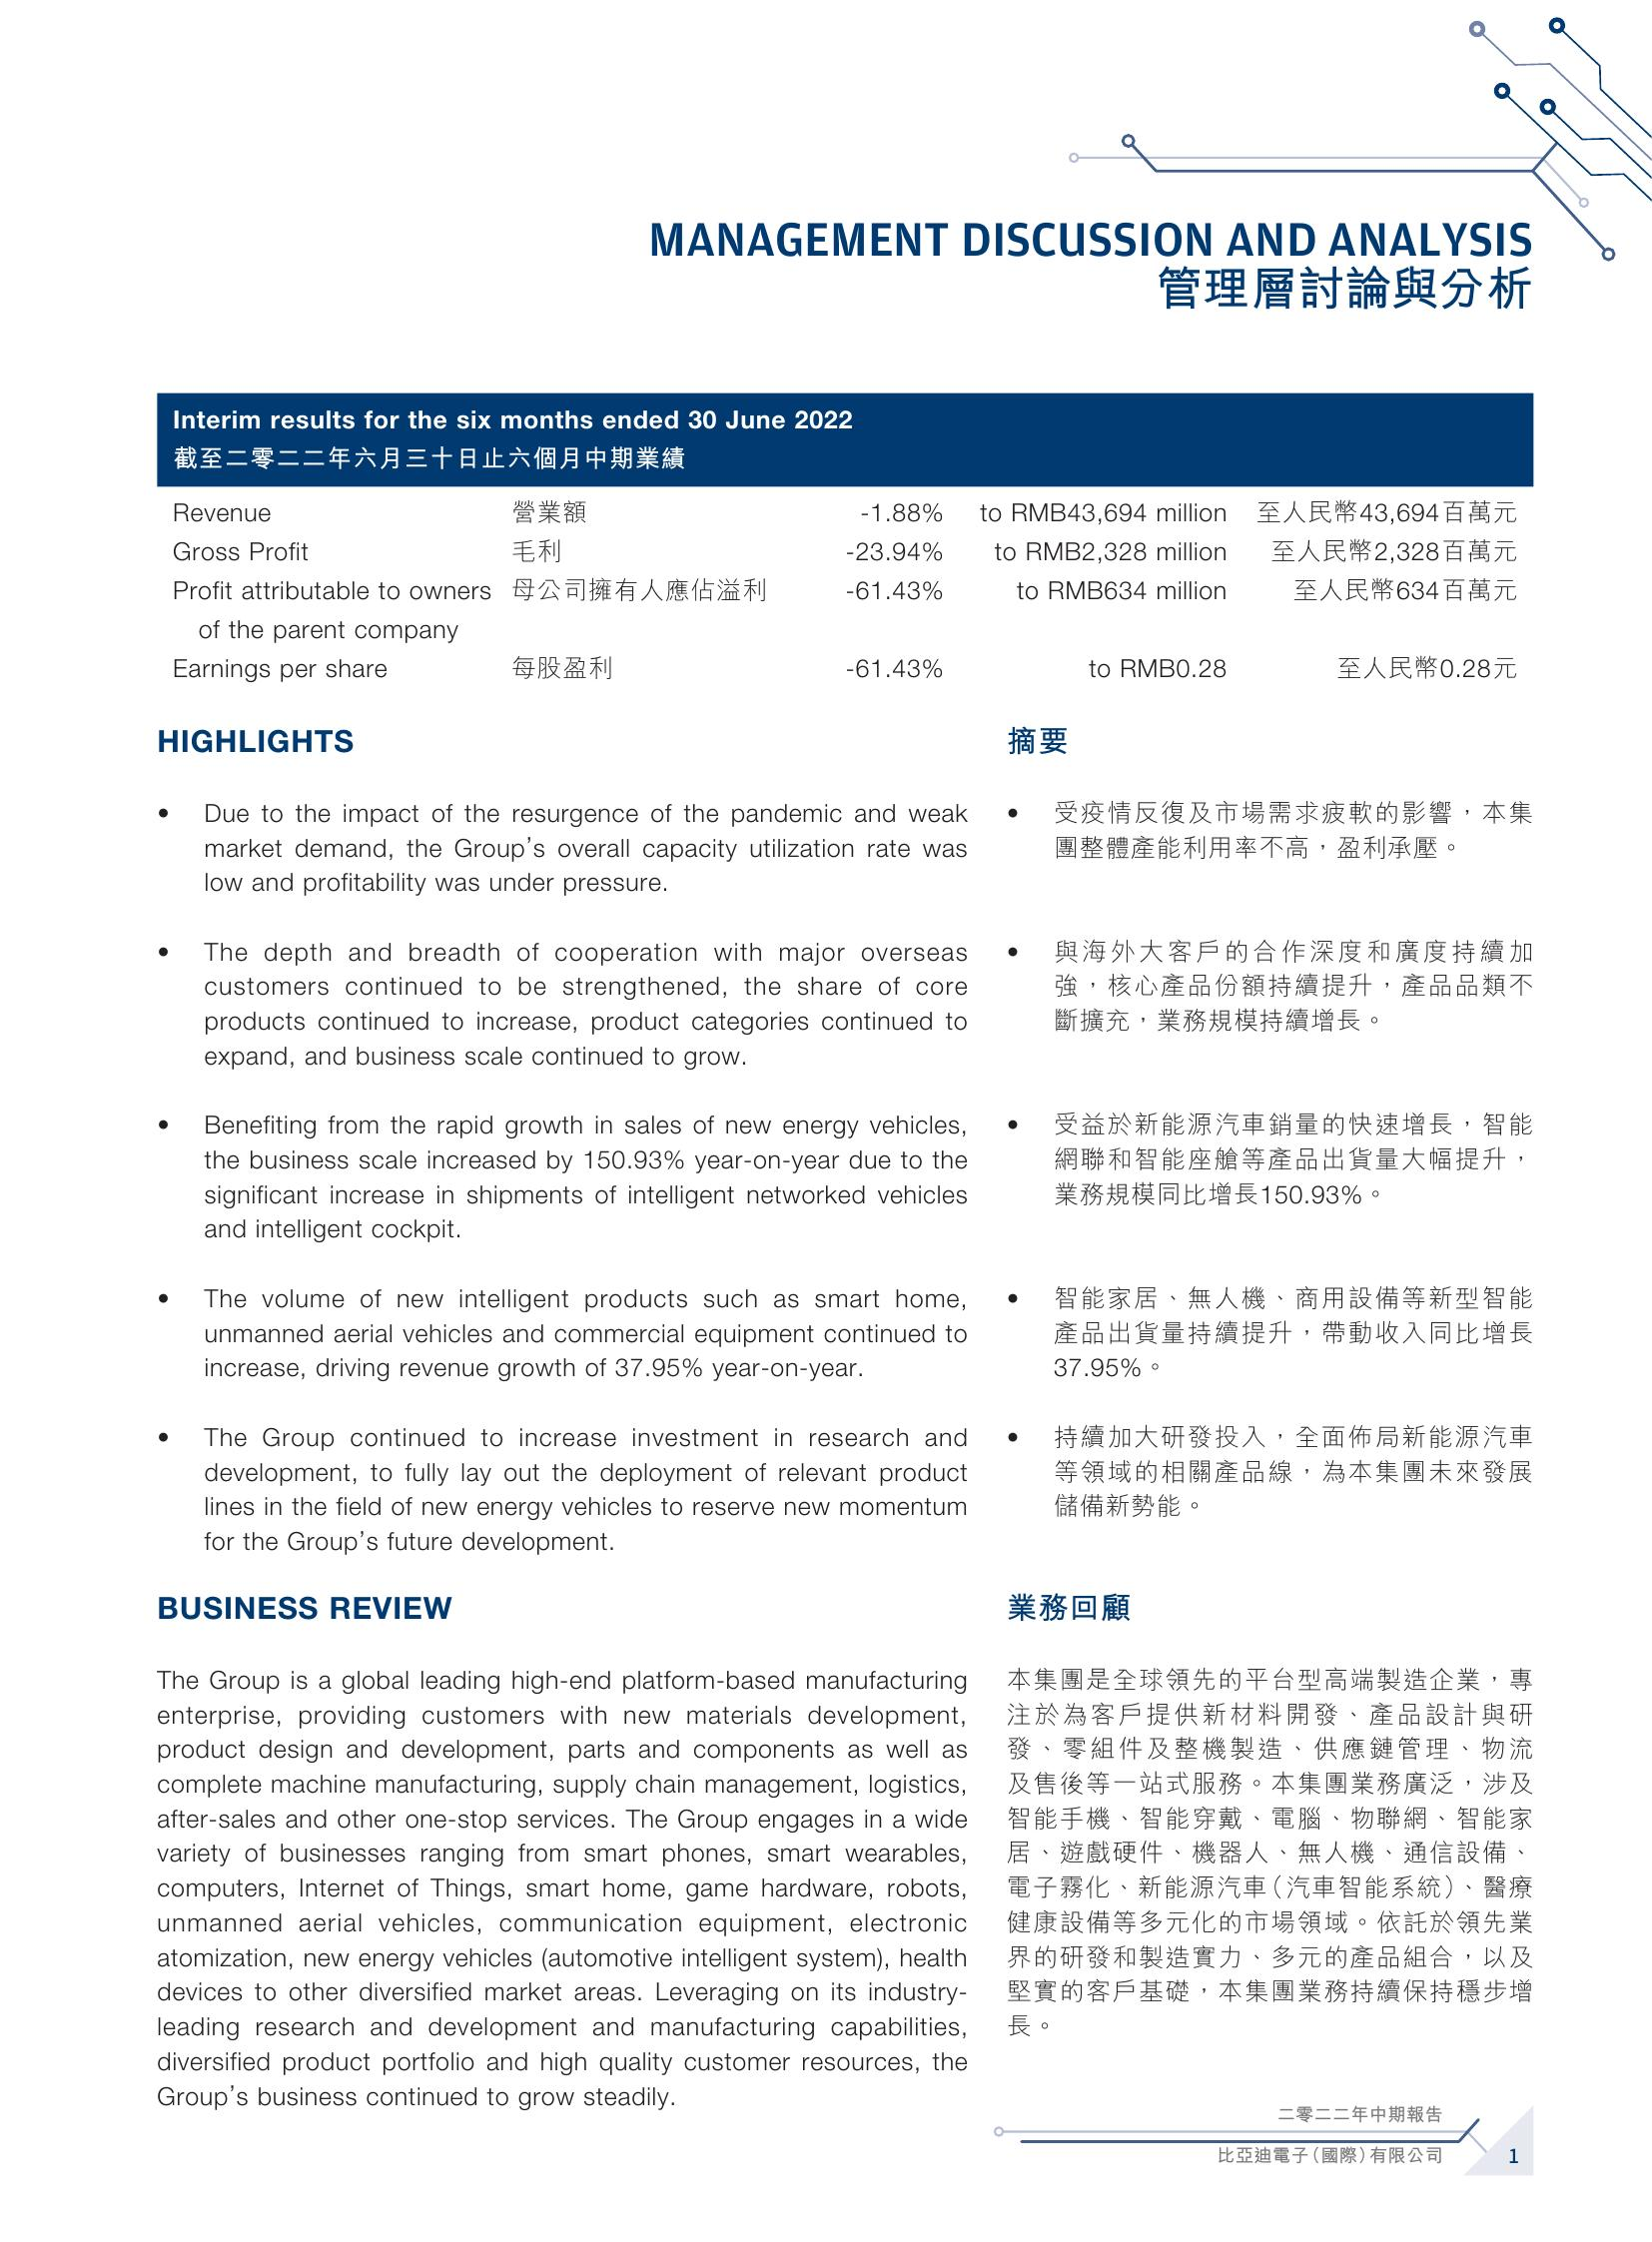Footer: (0, 2098, 1652, 2242)
Header: (0, 0, 1652, 185)
